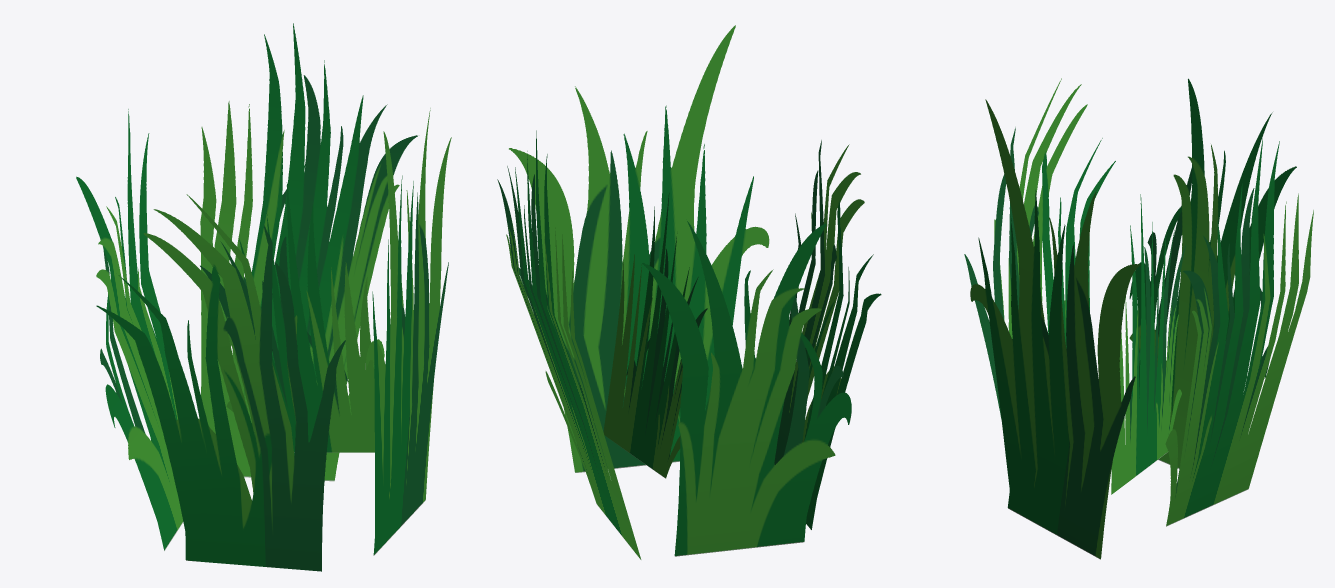
The model's file is gras00.fbx.
The picture shows the model from 3 angles, left to right: view 1: azimuth 30°, elevation 25°; view 2: azimuth 150°, elevation 25°; view 3: azimuth 270°, elevation 25°; orthographic projection. The views are drawn at different scales.
Parts seen in each view (by area): view 1: Plane; view 2: Plane; view 3: Plane.
Part boxes in pixels (box(x1,y1,x2,y2)): Plane: box(76, 23, 451, 571); Plane: box(497, 25, 881, 559); Plane: box(964, 78, 1313, 559).
Bounding box in the file's own units: 135 × 132 × 109.
